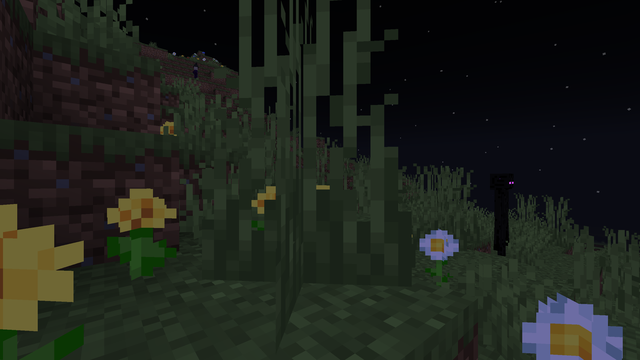endermens: (487, 170, 515, 264)
sorcieres: (192, 65, 197, 78)
